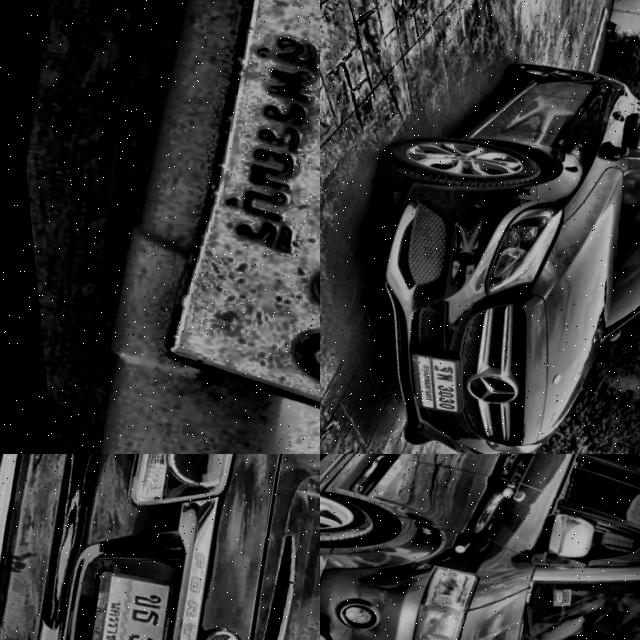license-plate: (73, 0, 320, 454), (63, 569, 183, 640), (385, 347, 466, 422)
